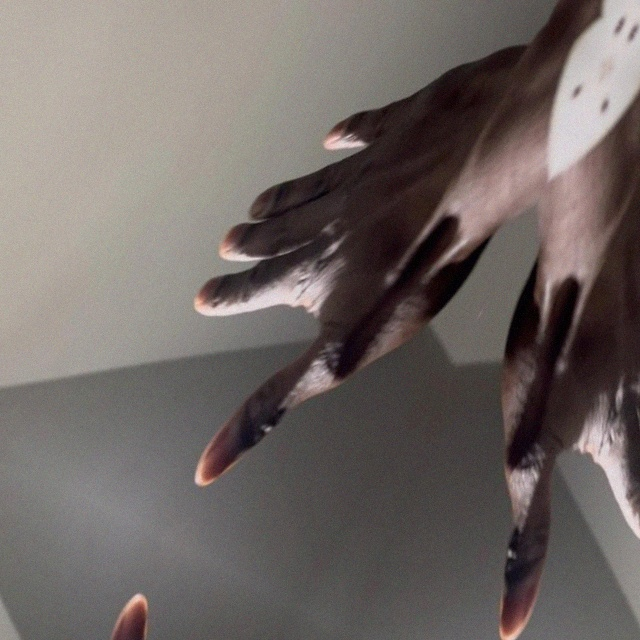Paper: (386, 0, 640, 2)
